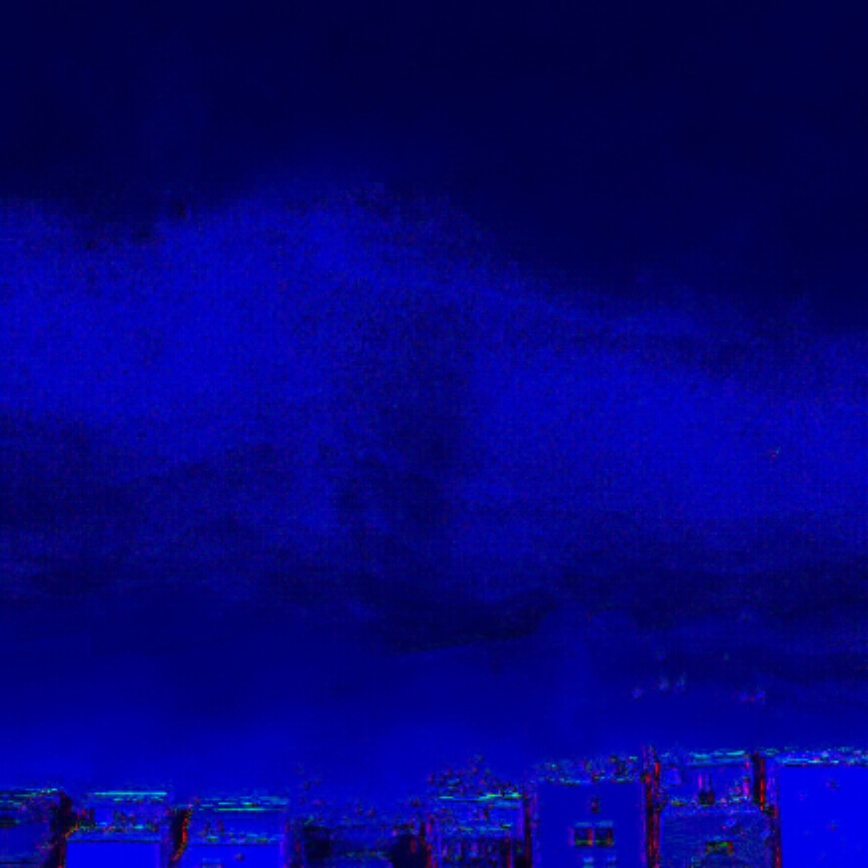rip_current: (275, 158, 532, 597)
